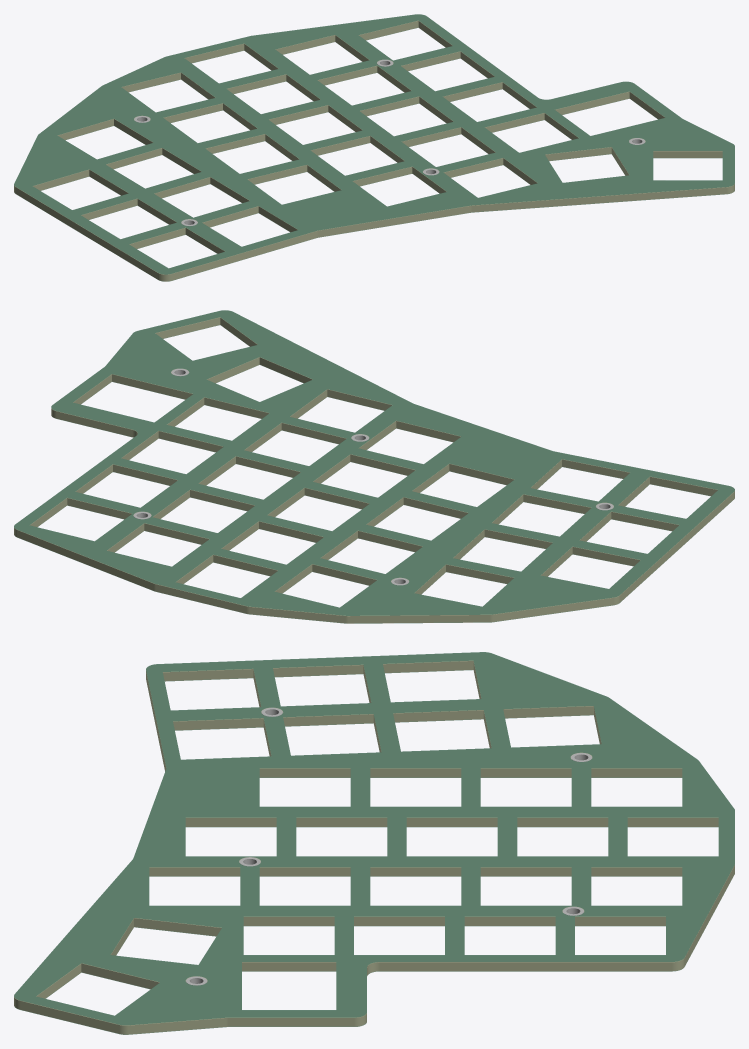
The model's file is board.glb.
The picture shows the model from 3 angles, top to bottom: view 1: azimuth 30°, elevation 25°; view 2: azimuth 150°, elevation 25°; view 3: azimuth 270°, elevation 25°; orthographic projection. The views are drawn at different scales.
Visible parts, largest first — view 1: board_PCB, board_soldermask (×2), board_pad; view 2: board_PCB, board_soldermask (×2), board_pad; view 3: board_PCB, board_soldermask (×2), board_pad.
Part boxes in pixels (x1,y1,x2,y2): board_PCB: (14,15,734,281); board_soldermask (×2): (14,14,734,281); board_pad: (134,59,645,226); board_PCB: (14,311,734,623); board_soldermask (×2): (14,310,734,623); board_pad: (133,368,613,585); board_PCB: (14,653,734,1034); board_soldermask (×2): (14,652,734,1034); board_pad: (186,707,592,985).
Bounding box in the file's own units: 0.136 × 0.00161 × 0.1109.
